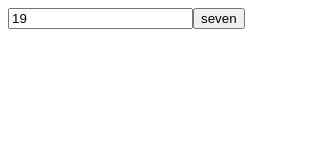
Scenario: number input › puts the lowest number it may hold when left empty
Clear the number field named "n" at (100, 18), box [8,8,193,29]
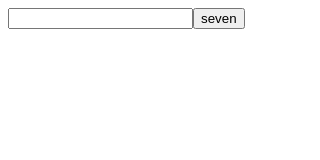
Leave the number field named "n", box [8,8,193,29]
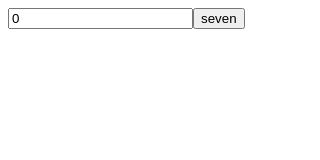
Expected: the number field named "n" holds "0", [8,8,193,29]
